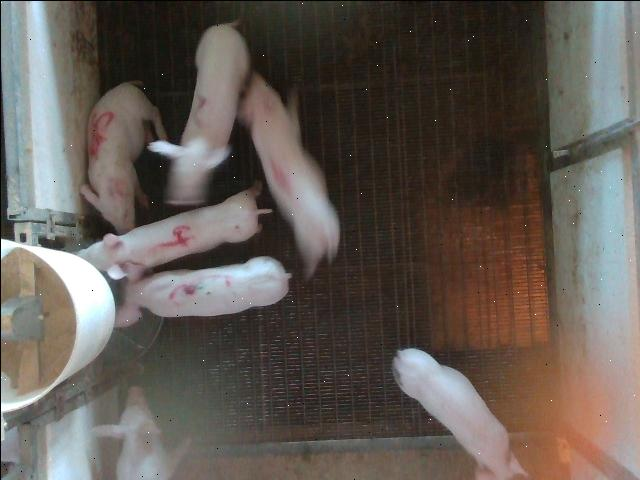pig-2: (149, 22, 249, 204)
pig-3: (238, 71, 339, 276), (114, 255, 290, 326)
pig-4: (76, 183, 265, 278)
pig-5: (79, 81, 165, 233)
